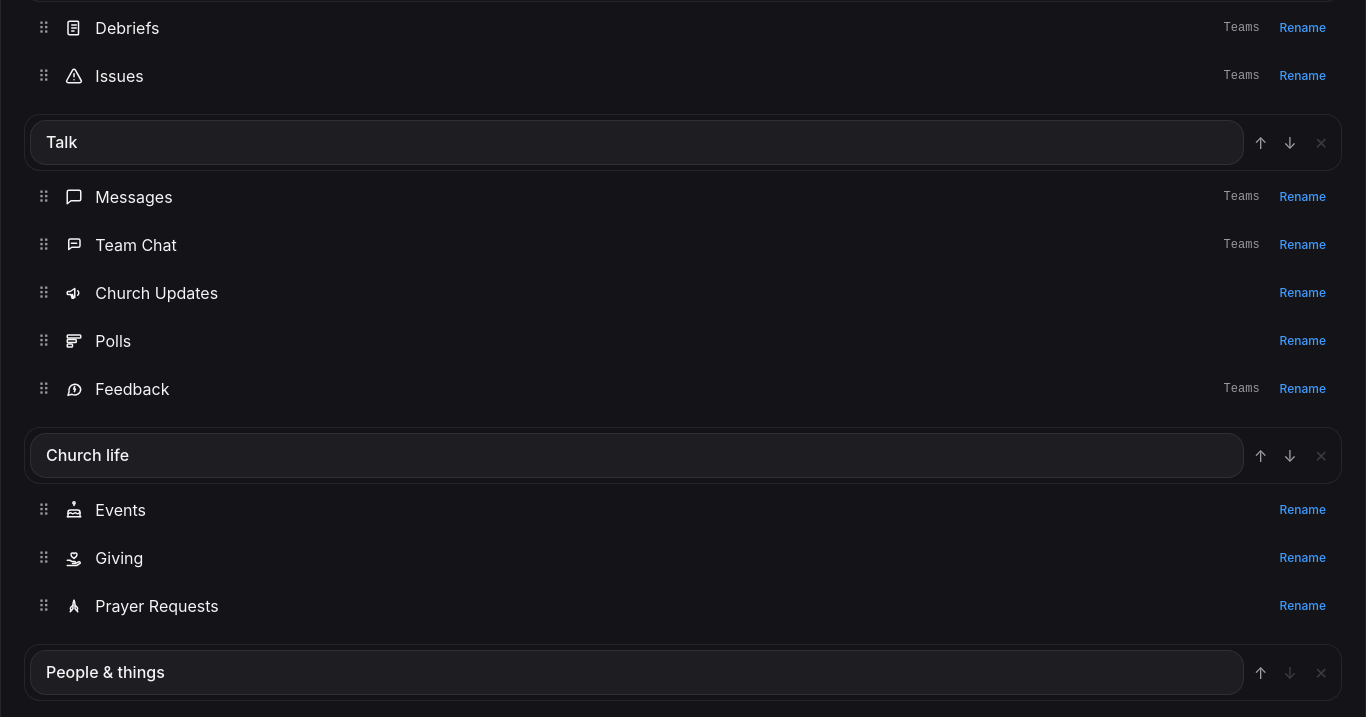
Test case: arranging the menu › says Saved only when the menu was written, and keeps the changes when it was not
This screenshot has width=1366, height=717.
(page scrolled)
Click the button with aria-label "Rename Polls".
click(1303, 341)  # box [1272,333,1334,349]
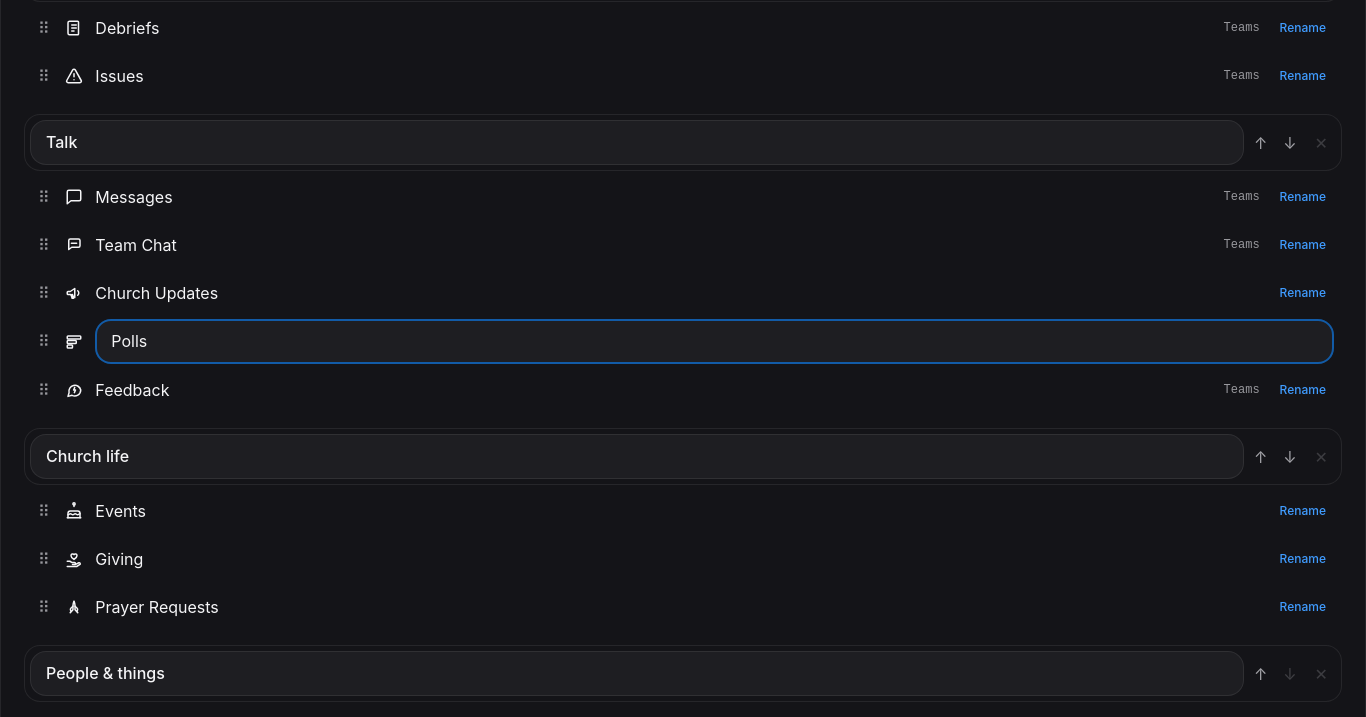
Type "X" into the field named "Name for Polls".
click(715, 342); type("X")  # box [95,319,1334,364]
Then press Enter
(page scrolled)
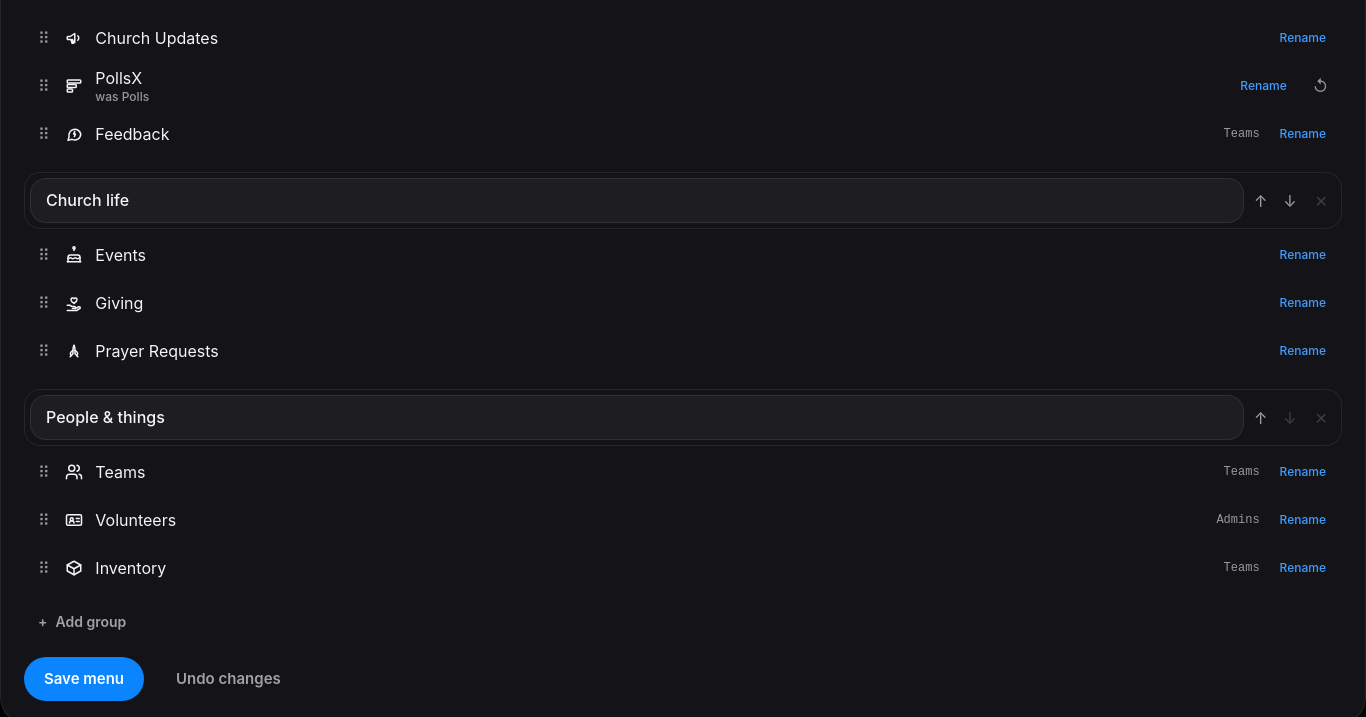
Click the button "Save menu".
click(84, 679)  # box [24,657,144,701]
(page scrolled)
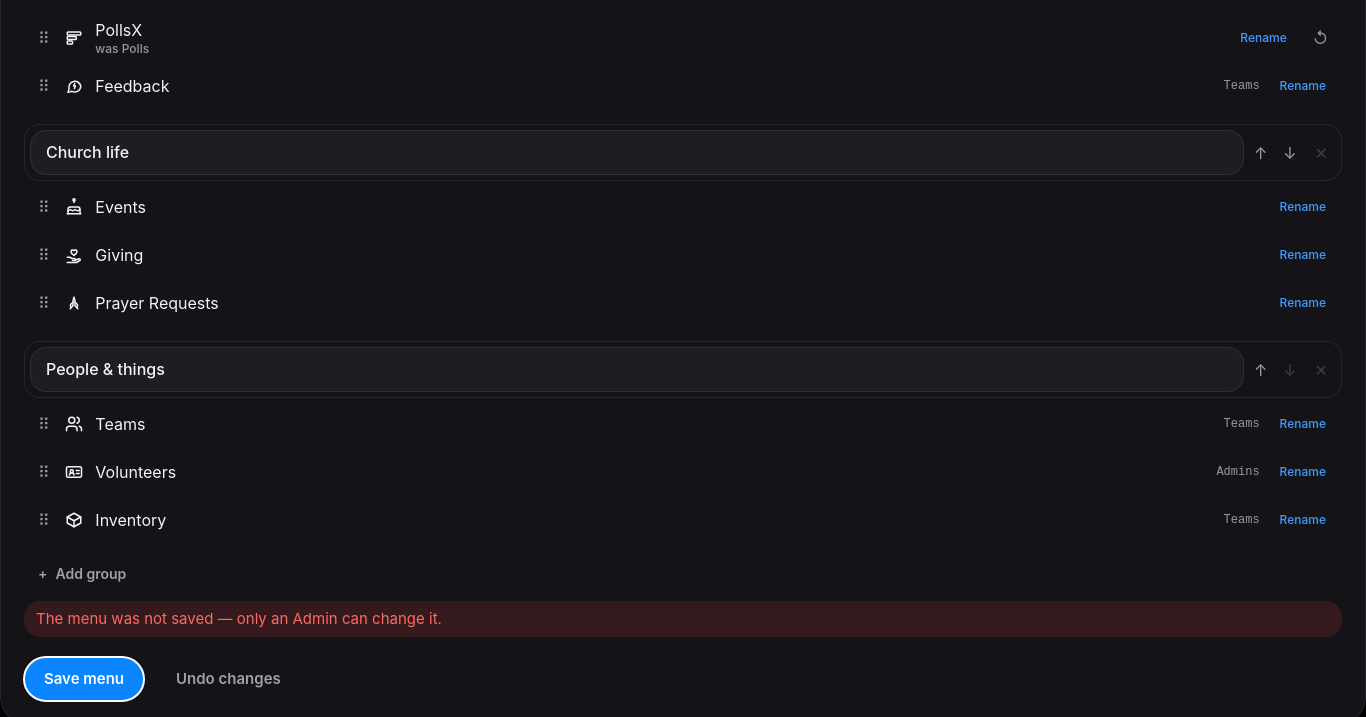
Expected: the text "Saved — everybody" is not shown
Expected: the button "Save menu" is enabled
Expected: the text "The menu was not saved — only an Admin can change it." is shown, [24,601,1342,637]
Click the button "Save menu".
click(84, 679)  # box [24,657,144,701]
(page scrolled)
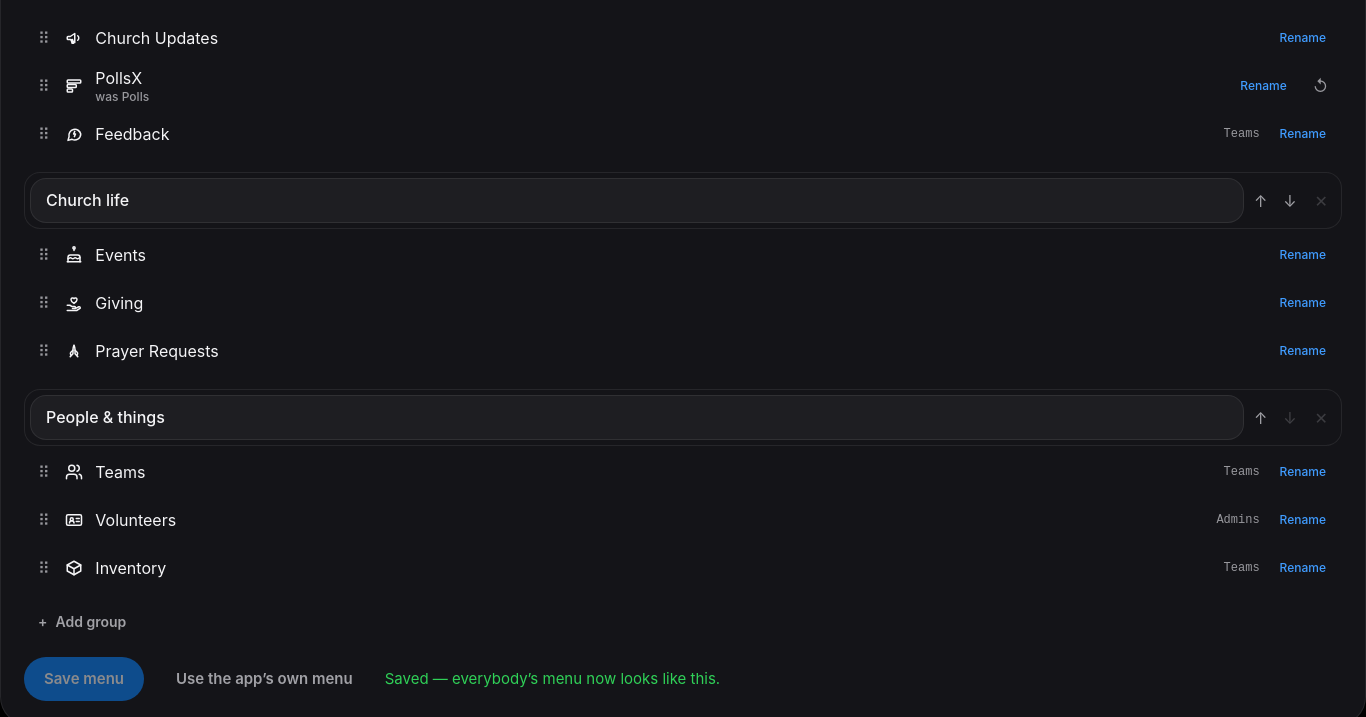
Expected: the text "Saved — everybody’s menu now looks like this." is shown, [385,669,720,689]
